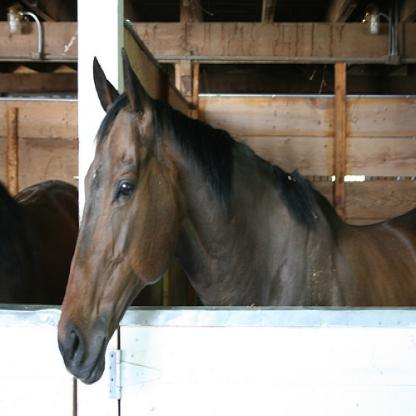horse: (57, 45, 415, 386)
